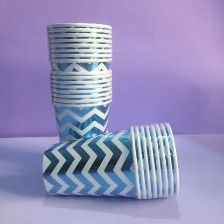paper_cup: (36, 117, 185, 202), (41, 16, 117, 157)
